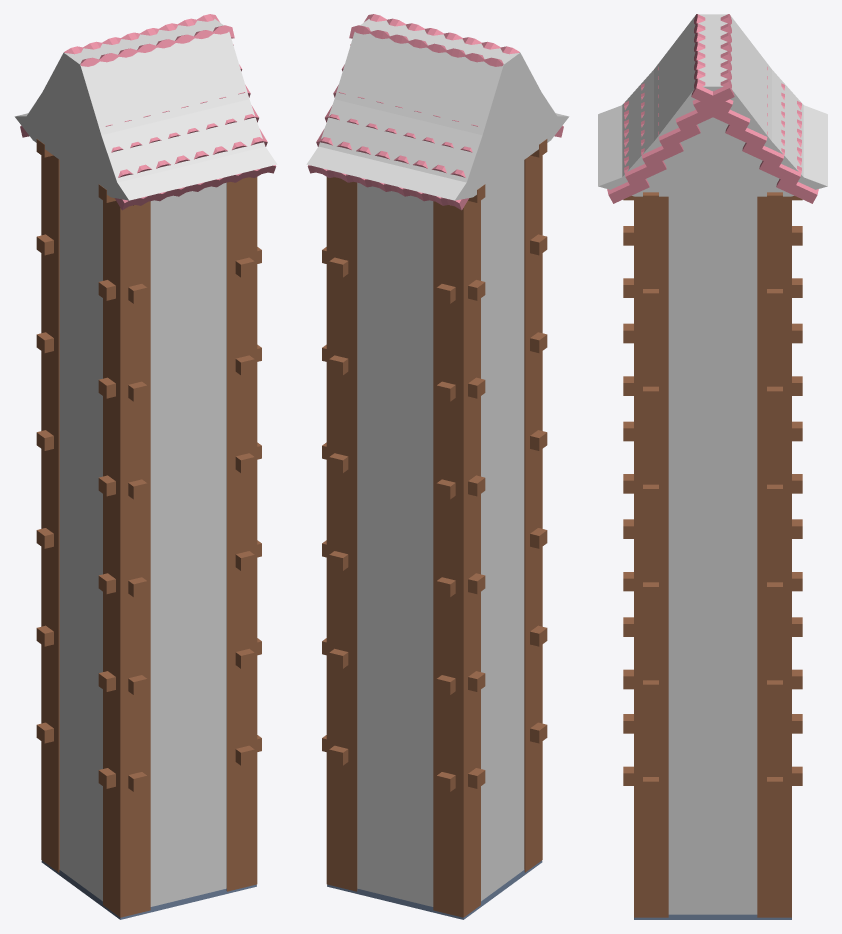
File: building#1 tall.fbx
3 views of the same model, side by side, from view 1: azimuth 30°, elevation 25°; view 2: azimuth 150°, elevation 25°; view 3: azimuth 270°, elevation 25° (orthographic).
Visible parts, largest first — view 1: COLLIDEER.001, Grapple, tower, roof tiles, stone bottom, wooden nub.001, wooden nub; view 2: COLLIDEER.001, Grapple, tower, roof tiles, stone bottom, wooden nub.001, wooden nub; view 3: COLLIDEER.001, Grapple, roof tiles, tower, wooden nub, stone bottom, wooden nub.001.
Boxes of the visible parts, bbox=[...] form: COLLIDEER.001: bbox=[14, 19, 277, 906]; Grapple: bbox=[41, 155, 257, 917]; tower: bbox=[36, 139, 261, 694]; roof tiles: bbox=[20, 14, 276, 210]; stone bottom: bbox=[41, 860, 256, 919]; wooden nub.001: bbox=[36, 722, 261, 788]; wooden nub: bbox=[128, 745, 254, 791]; COLLIDEER.001: bbox=[306, 19, 569, 906]; Grapple: bbox=[326, 155, 542, 917]; tower: bbox=[322, 139, 547, 694]; roof tiles: bbox=[307, 14, 563, 210]; stone bottom: bbox=[327, 860, 542, 919]; wooden nub.001: bbox=[322, 722, 547, 788]; wooden nub: bbox=[329, 745, 455, 791]; COLLIDEER.001: bbox=[598, 14, 827, 914]; Grapple: bbox=[634, 196, 791, 917]; roof tiles: bbox=[607, 14, 818, 203]; tower: bbox=[623, 192, 802, 697]; wooden nub: bbox=[623, 714, 802, 785]; stone bottom: bbox=[634, 914, 791, 919]; wooden nub.001: bbox=[643, 777, 782, 794].
Size of the model in its own units: 1036 by 5341 by 1327.
